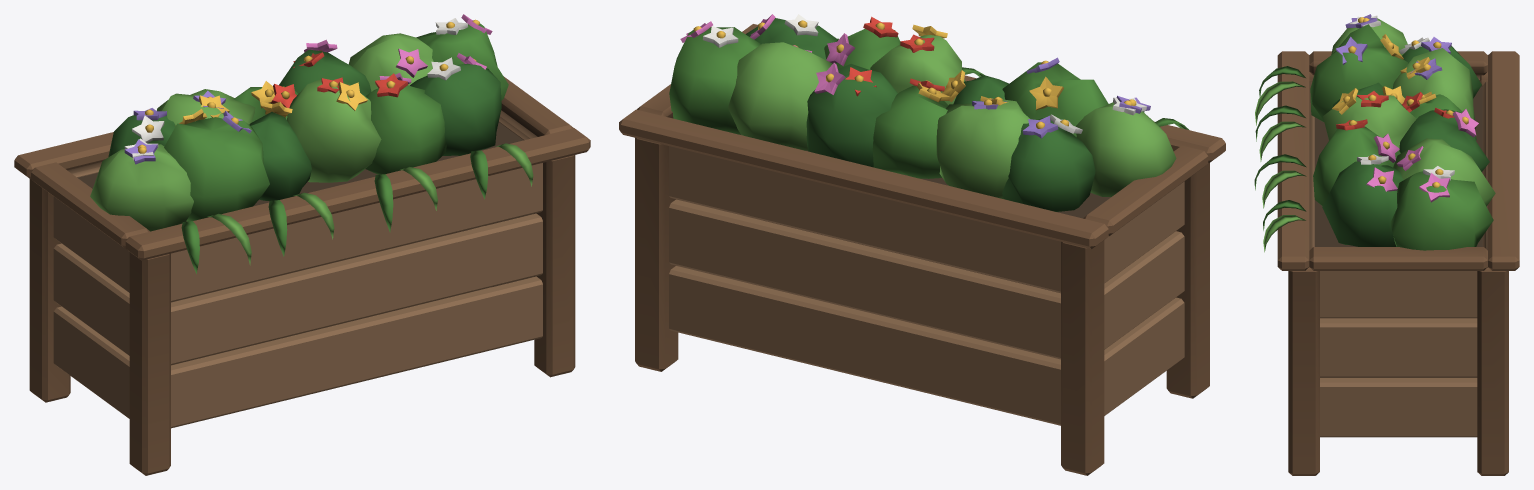
Rendered from planterBox.glb.
3 renders of one model, left to right at view 1: azimuth 30°, elevation 25°; view 2: azimuth 150°, elevation 25°; view 3: azimuth 270°, elevation 25°, orthographic. The views are drawn at different scales.
Visible parts, largest first — view 1: planterBox; view 2: planterBox; view 3: planterBox.
Boxes of the visible parts, x1,y1,x2,y2 form: planterBox: (14,14,590,475); planterBox: (619,14,1225,475); planterBox: (1254,14,1519,475).
Size of the model in its own units: 0.94 by 0.6233 by 0.5044.
